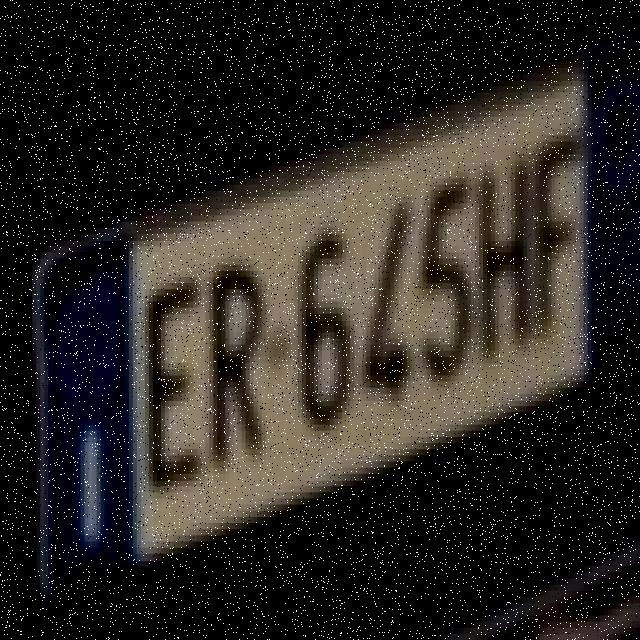licenseplate: (26, 23, 618, 597)
